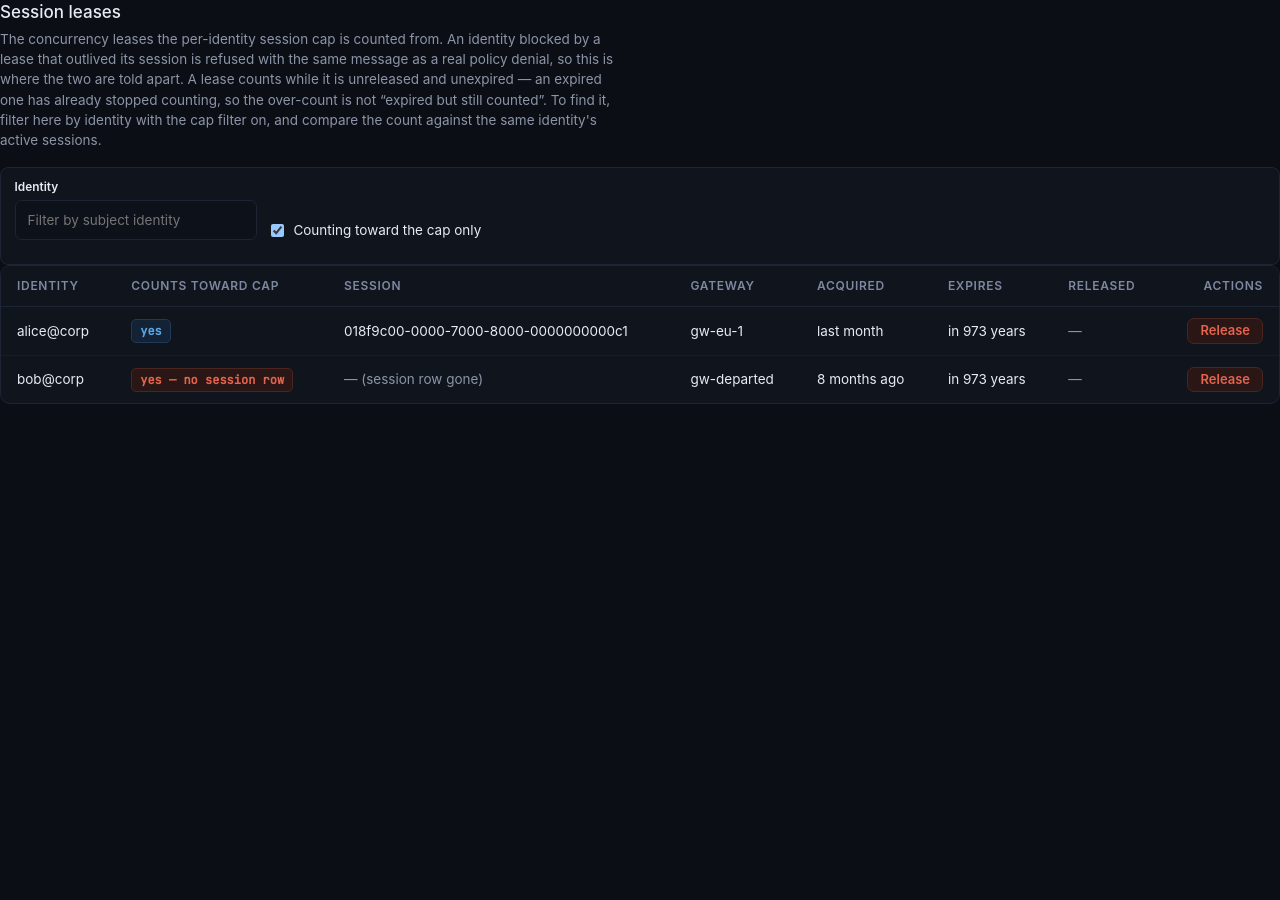
SessionLeaseList › surfaces a problem from the release
Expected: the text "bob@corp" is shown, [1,355,115,403]
Click the button "Release" in the row of "bob@corp" at (1225, 380), box [1188,367,1263,392]
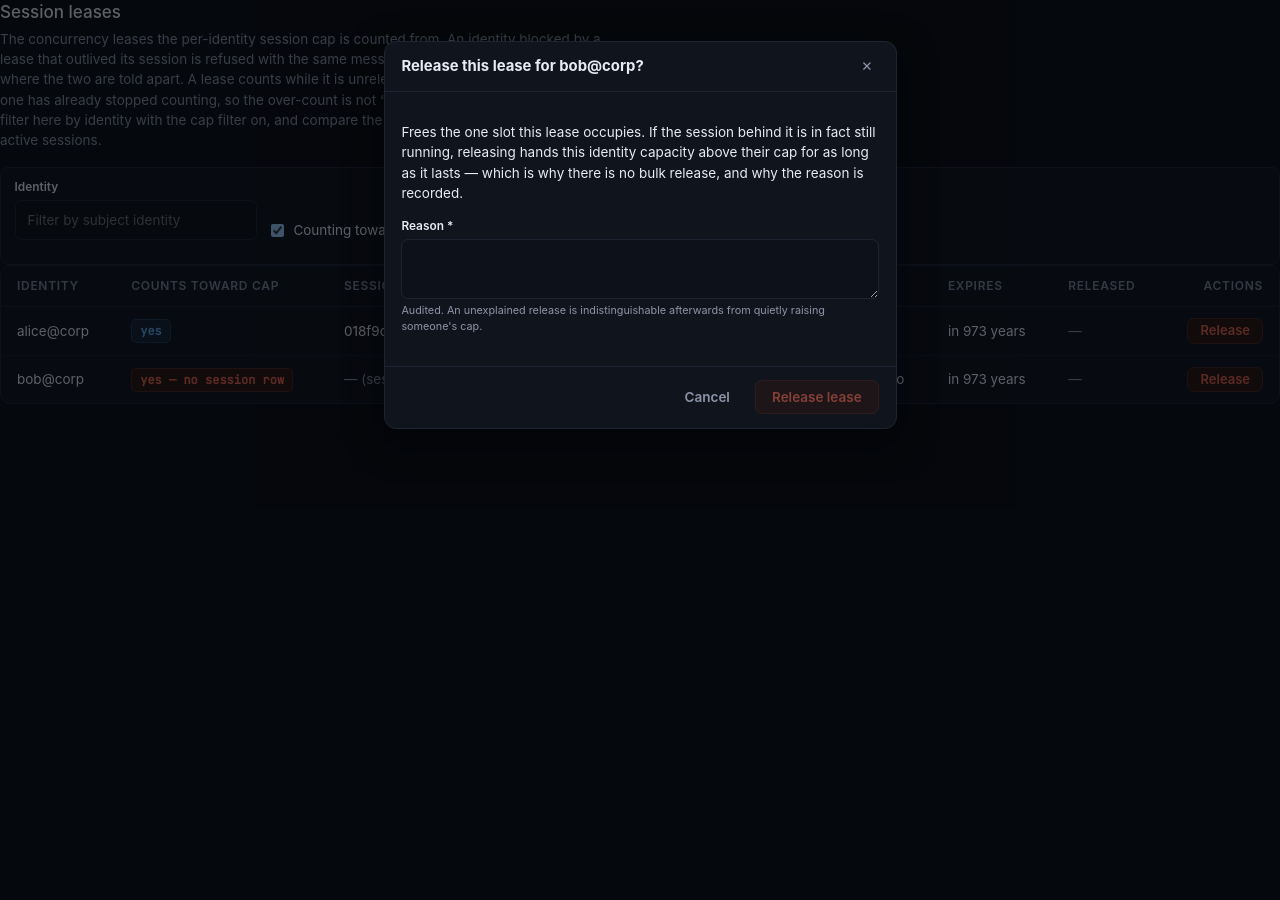
Type "stuck" into the text box labelled "Reason *" at (640, 269), box [401,238,879,299]
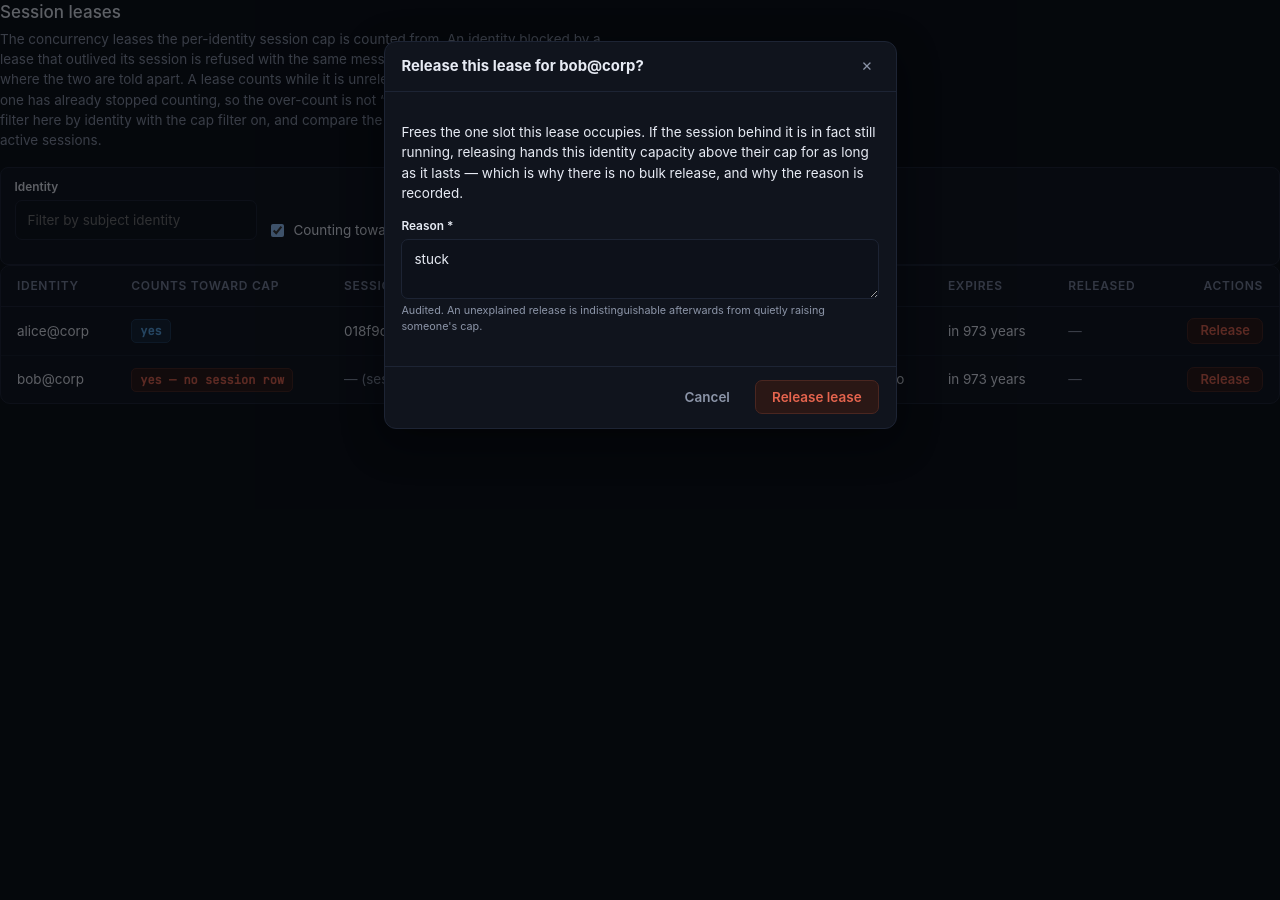
Click the button "Release lease" at (817, 397), box [755,380,879,414]
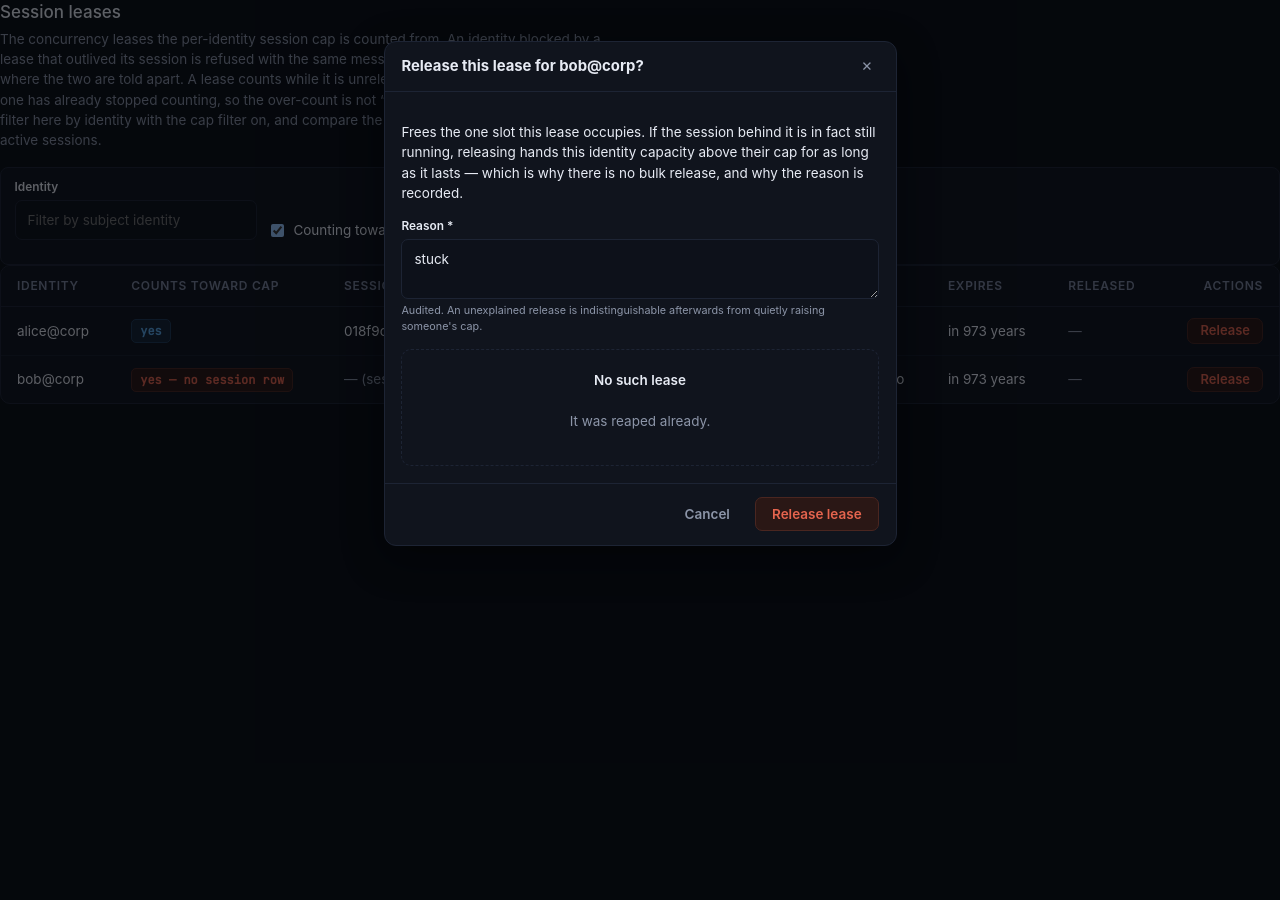
Expected: the text "No such lease" is shown, [594,370,686,390]
